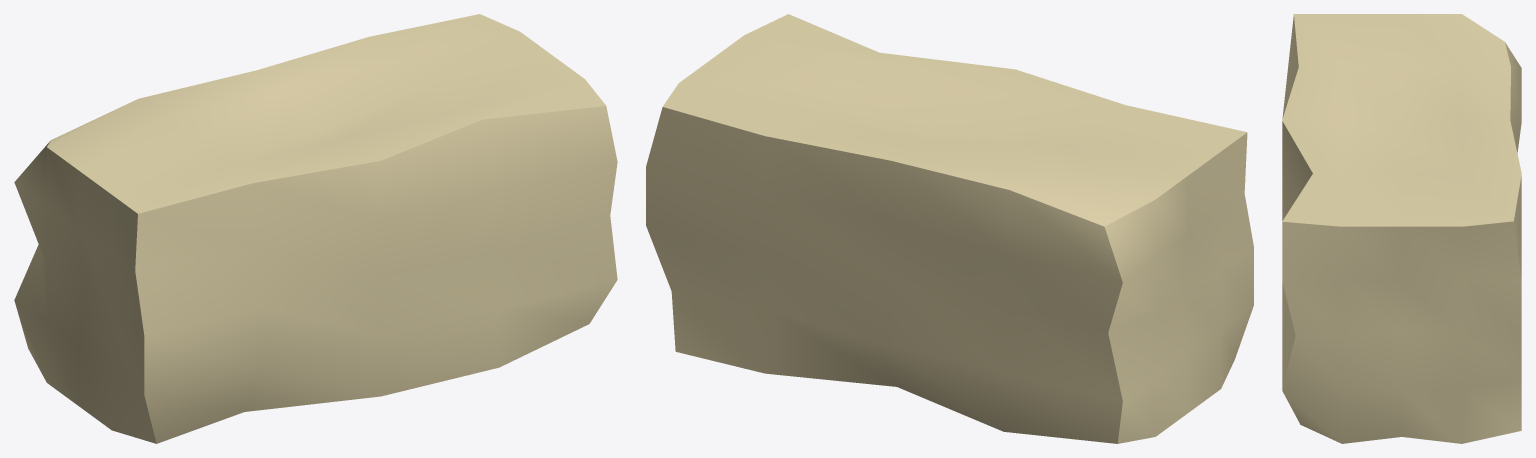
The model's file is brick.glb.
3 views of the same model, side by side, from view 1: azimuth 30°, elevation 25°; view 2: azimuth 150°, elevation 25°; view 3: azimuth 270°, elevation 25° (orthographic). The views are drawn at different scales.
Parts seen in each view (by area): view 1: Cube; view 2: Cube; view 3: Cube.
Part boxes in pixels (<box>): Cube: <box>14,14,617,443</box>; Cube: <box>646,14,1253,443</box>; Cube: <box>1282,14,1521,443</box>.
Bounding box in the file's own units: 0.8419 × 0.4007 × 0.4007.
